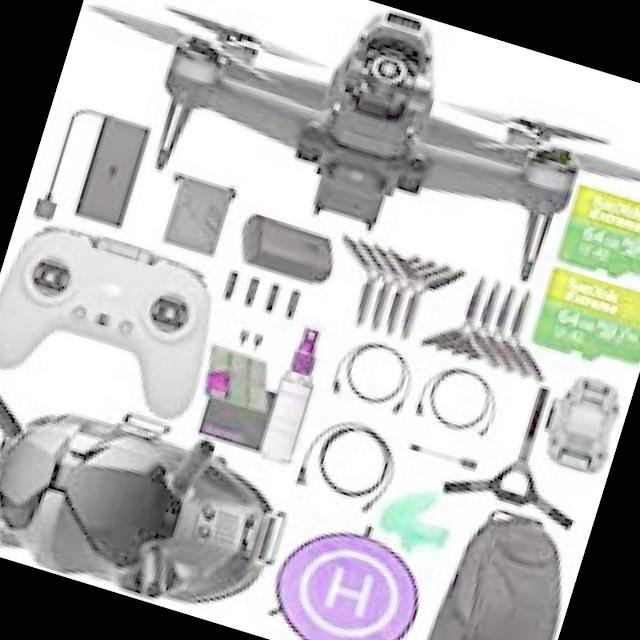drone: (36, 0, 640, 355)
